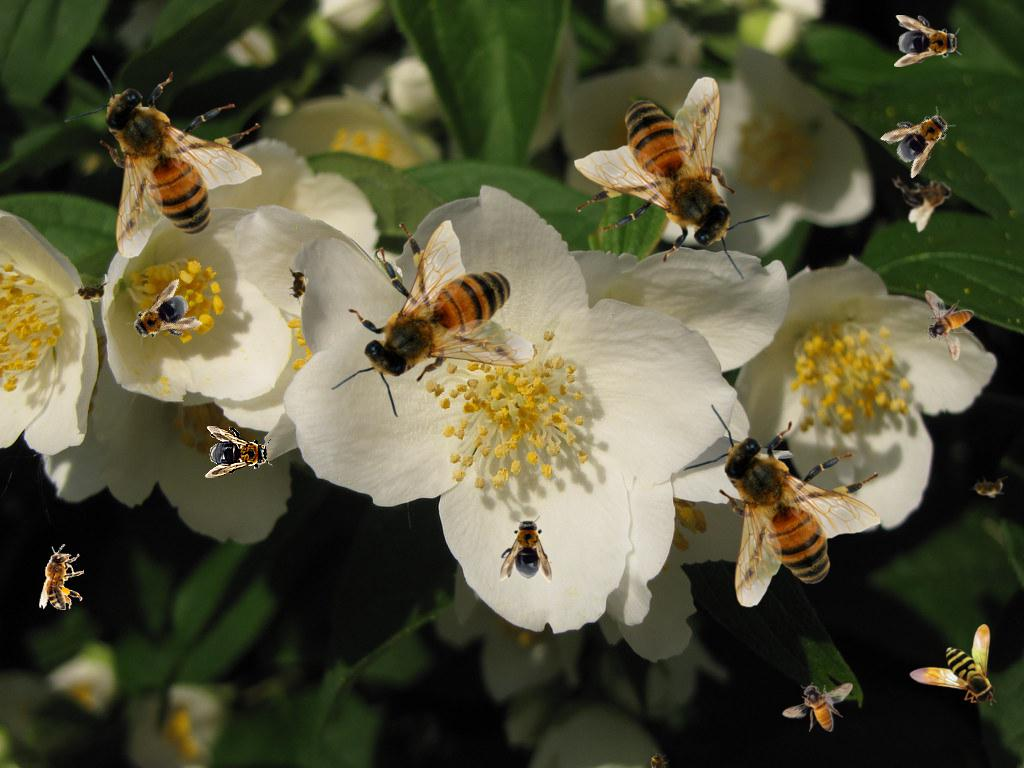Bee: (574, 76, 773, 280), (63, 55, 262, 259), (331, 220, 535, 419), (682, 404, 881, 608), (878, 95, 964, 179), (909, 624, 997, 706), (119, 278, 205, 358), (887, 155, 964, 235), (924, 290, 974, 361), (782, 682, 853, 732), (500, 515, 552, 583), (205, 426, 273, 478), (894, 15, 962, 67), (39, 544, 84, 610), (285, 264, 311, 306), (968, 476, 1008, 498), (71, 281, 111, 303), (645, 745, 675, 768)
